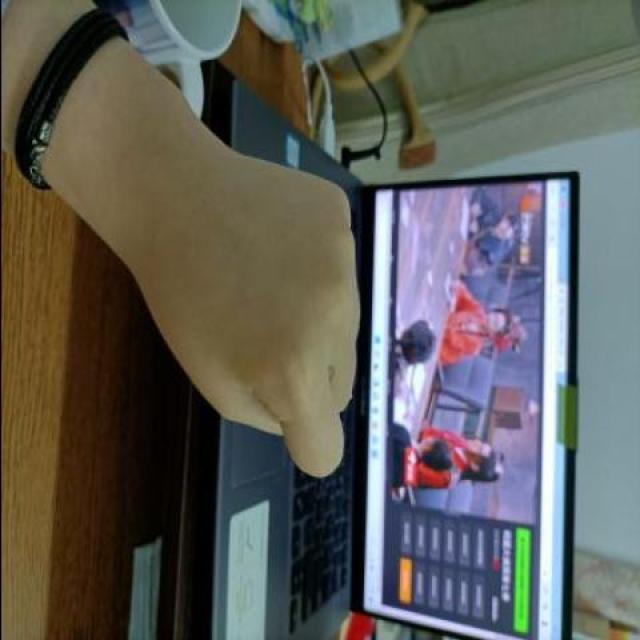Closed Hand: (139, 140, 377, 481)
